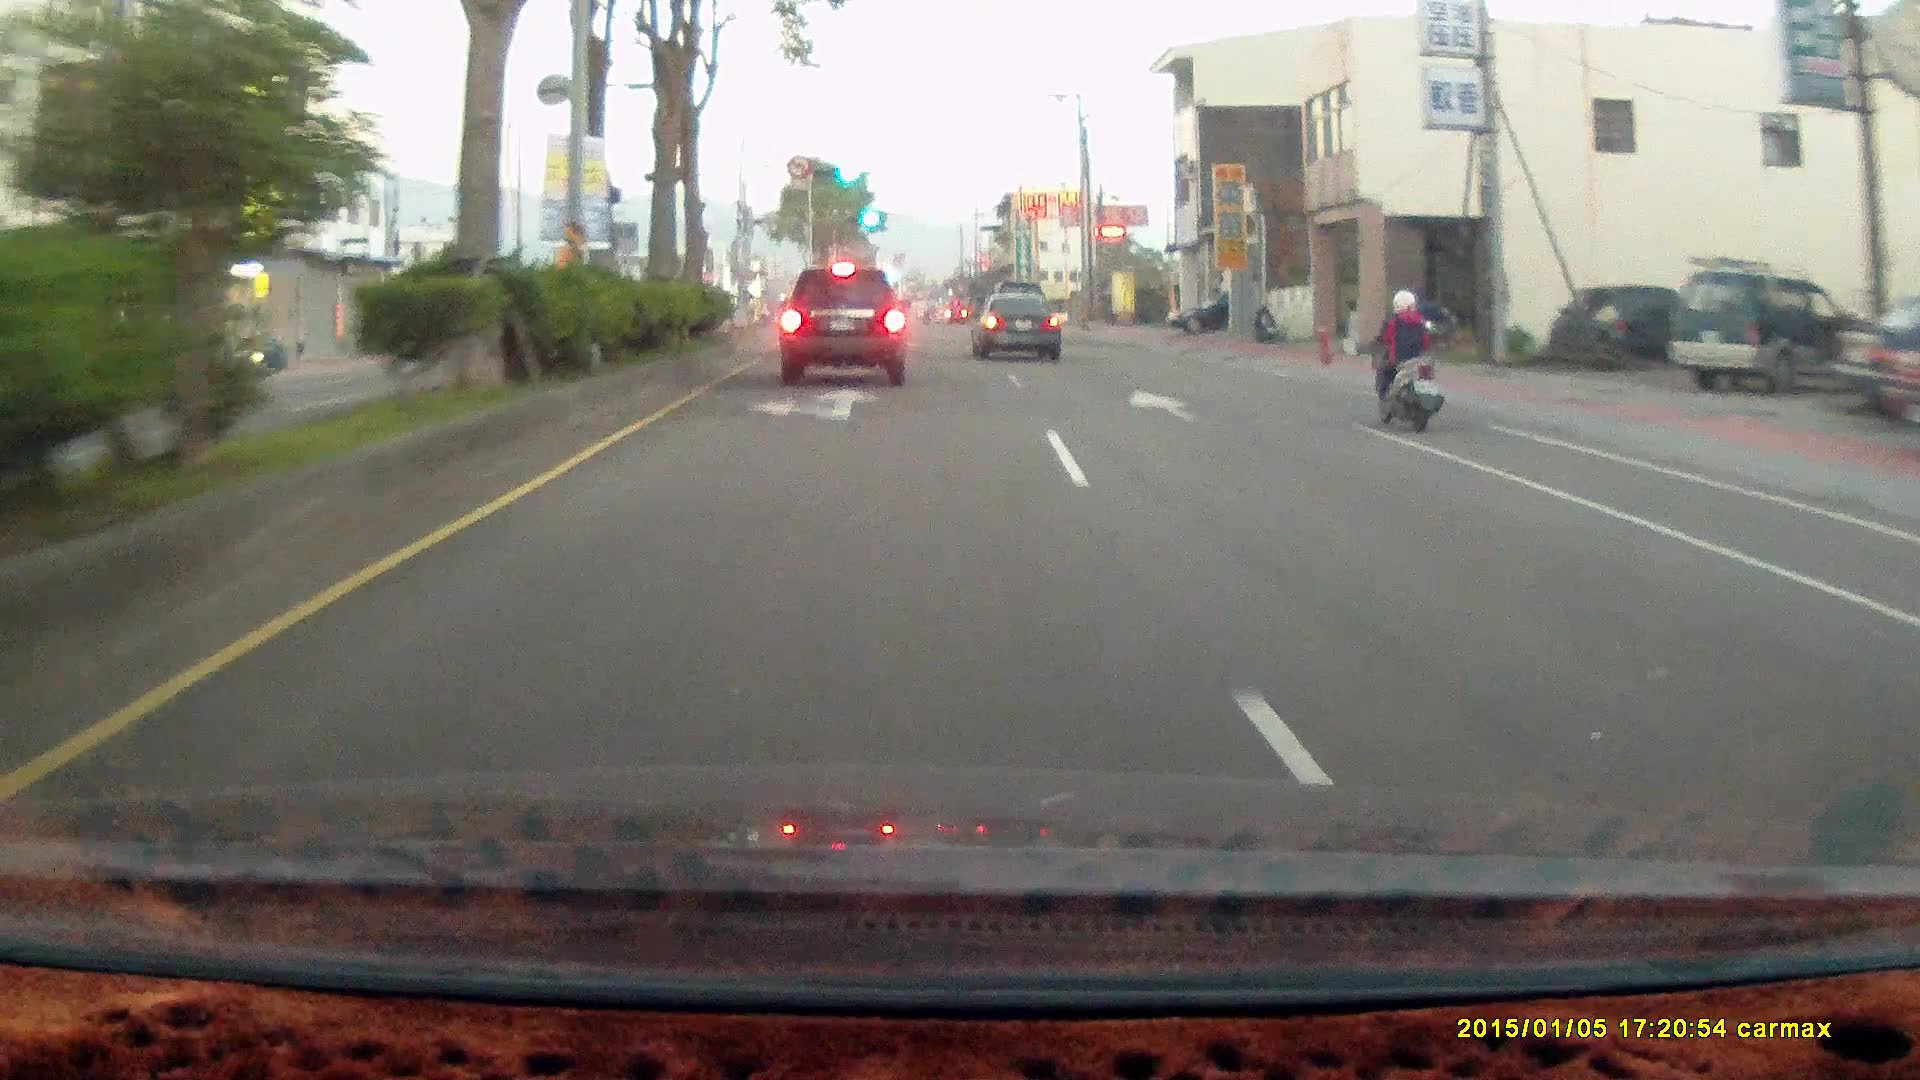rider: (1353, 274, 1457, 442), (1365, 285, 1443, 429)
vehicle: (1665, 269, 1871, 394), (1673, 272, 1855, 396), (779, 254, 913, 378), (778, 265, 909, 384), (1552, 281, 1679, 371), (1549, 284, 1680, 367), (970, 292, 1065, 363), (973, 291, 1059, 356), (1166, 290, 1270, 333), (1876, 342, 1920, 441), (1166, 289, 1233, 337)
